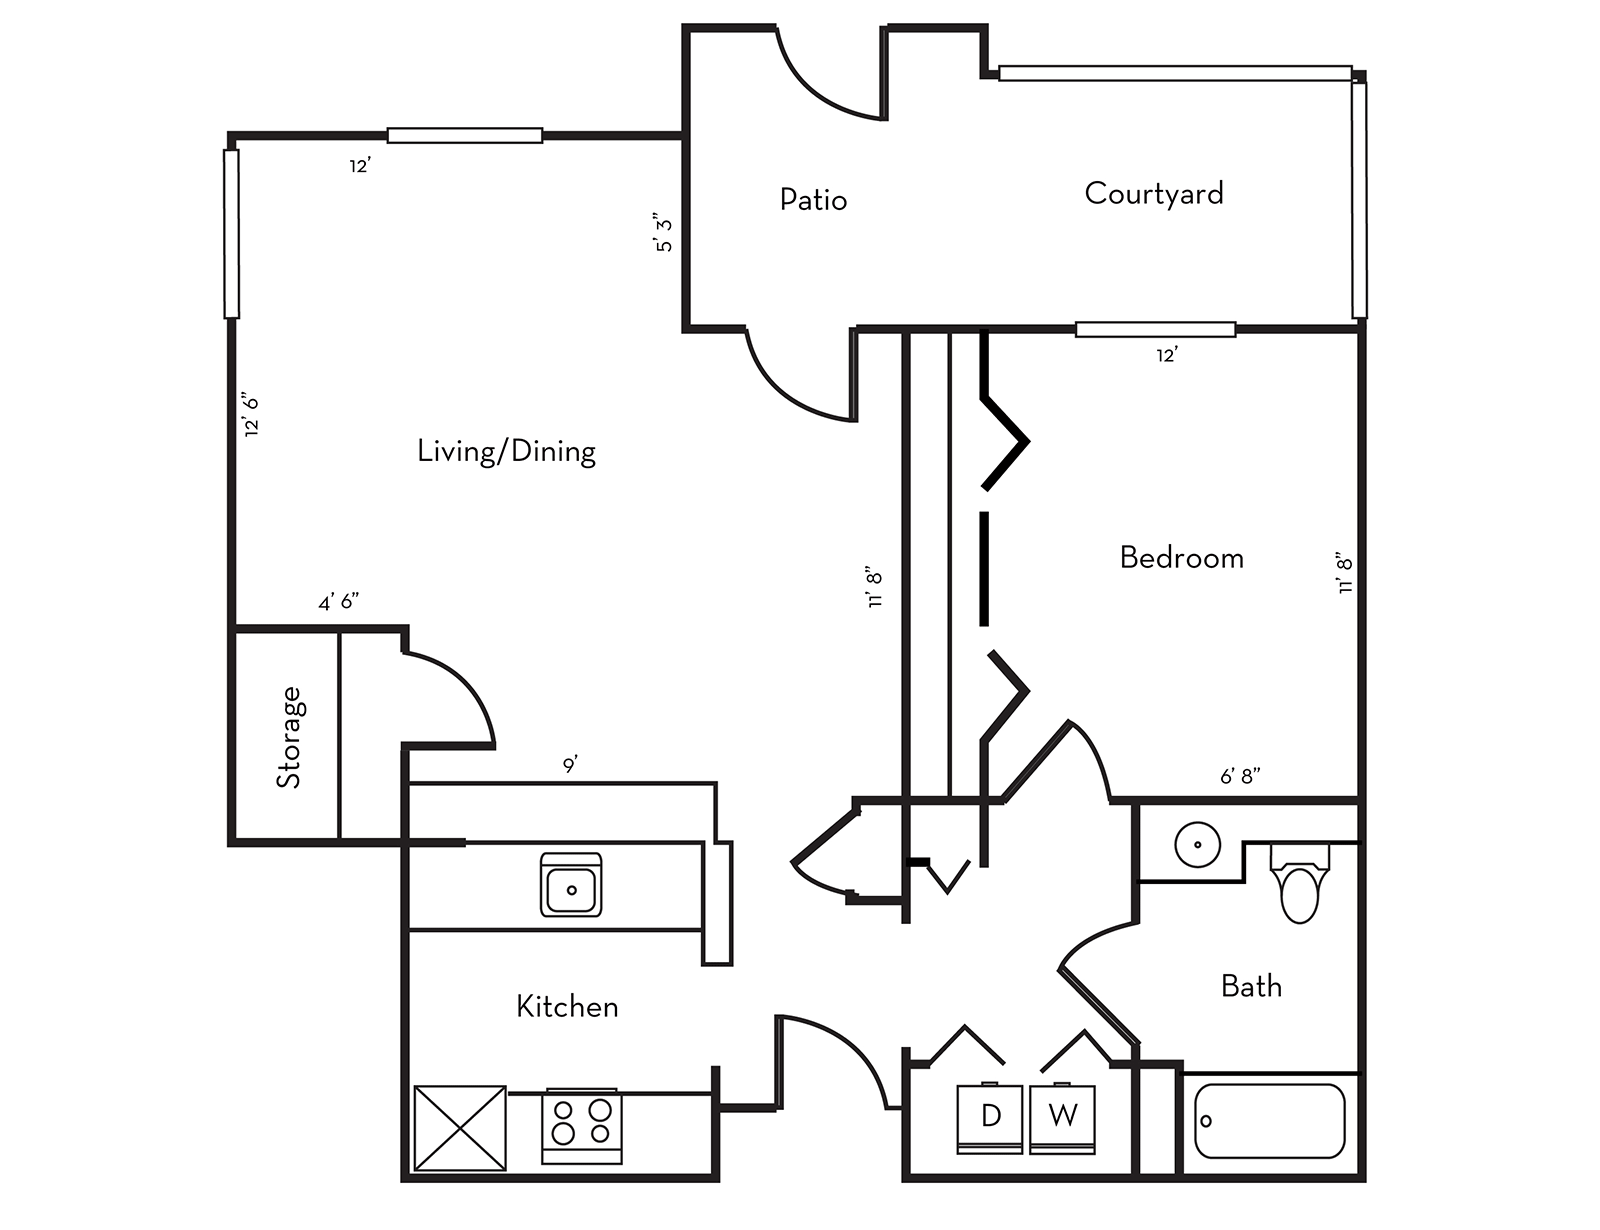door: (768, 994, 887, 1109), (736, 339, 860, 437), (776, 41, 894, 141), (416, 646, 509, 752), (957, 395, 1056, 492), (1052, 924, 1136, 1021), (966, 649, 1058, 736), (1018, 717, 1123, 786), (777, 789, 845, 897), (1042, 1017, 1114, 1075), (926, 1012, 996, 1066), (926, 860, 969, 906)
